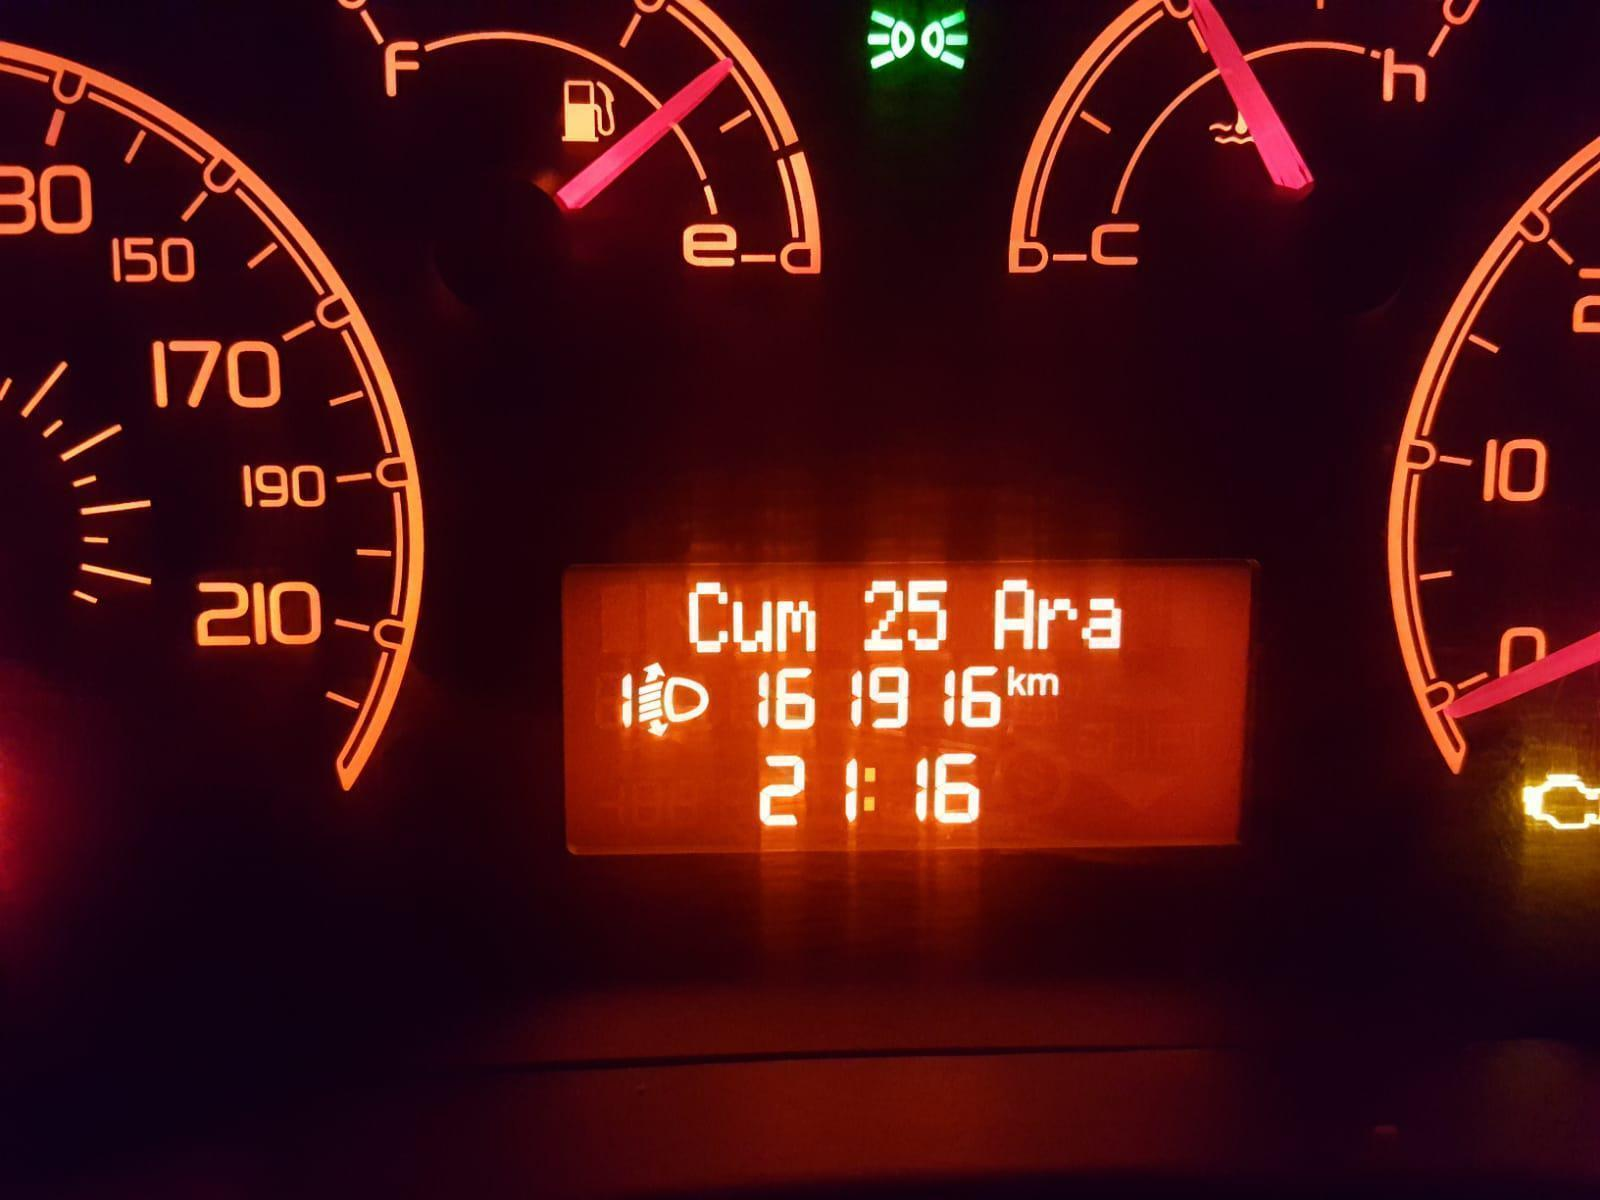1: (911, 750, 936, 829), (845, 664, 867, 734), (842, 755, 860, 829), (617, 668, 635, 741), (753, 664, 771, 734), (942, 663, 955, 734)
2: (753, 746, 813, 829), (860, 574, 908, 654)
5: (905, 576, 954, 652)
6: (934, 750, 986, 827), (772, 663, 816, 735), (963, 663, 1005, 729)
9: (867, 663, 913, 731)
X: (682, 574, 733, 655), (989, 576, 1038, 650), (1081, 596, 1128, 653), (776, 595, 821, 652), (732, 595, 774, 655), (1036, 592, 1075, 650), (860, 761, 881, 818), (1028, 669, 1061, 700), (1008, 663, 1028, 697)
odometer: (556, 555, 1254, 852)
